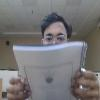notebook: (12, 40, 87, 99)
